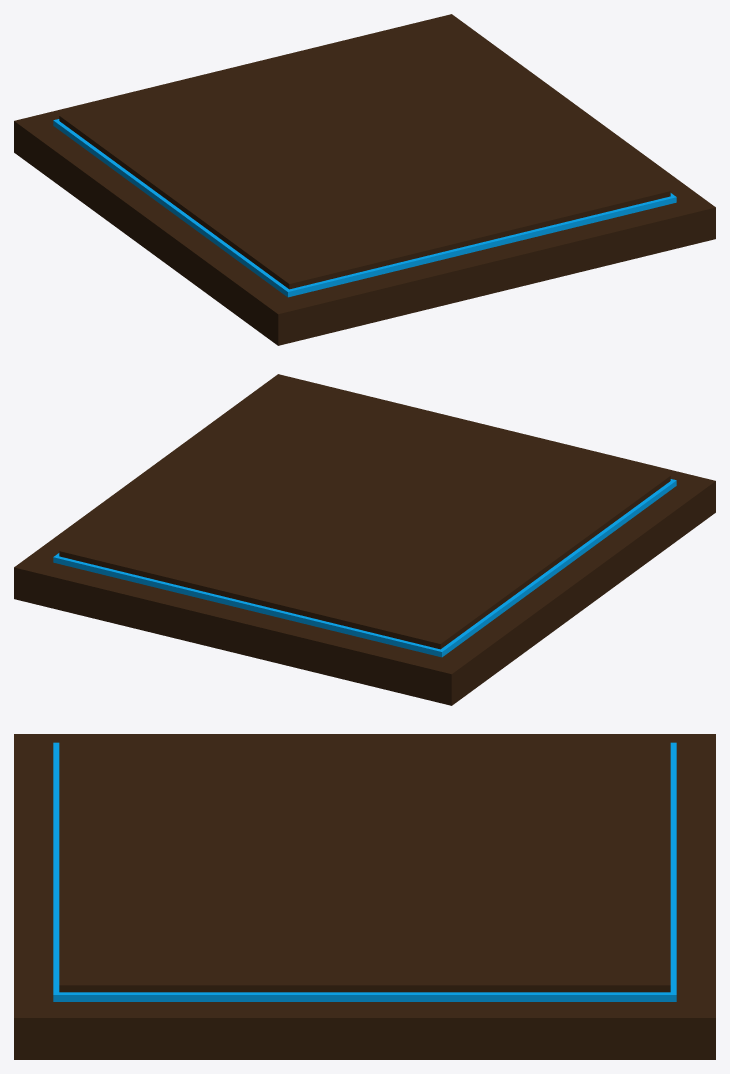
File: founder.FBX
The picture shows the model from 3 angles, top to bottom: view 1: azimuth 30°, elevation 25°; view 2: azimuth 150°, elevation 25°; view 3: azimuth 270°, elevation 25°; orthographic projection. The views are drawn at different scales.
Visible parts, largest first — view 1: Box061; view 2: Box061; view 3: Box061.
Part boxes in pixels (x1=…): Box061: x1=14, y1=14, x2=715, y2=345; Box061: x1=14, y1=374, x2=715, y2=705; Box061: x1=14, y1=734, x2=715, y2=1059.
Size of the model in its own units: 129 by 11.92 by 135.
